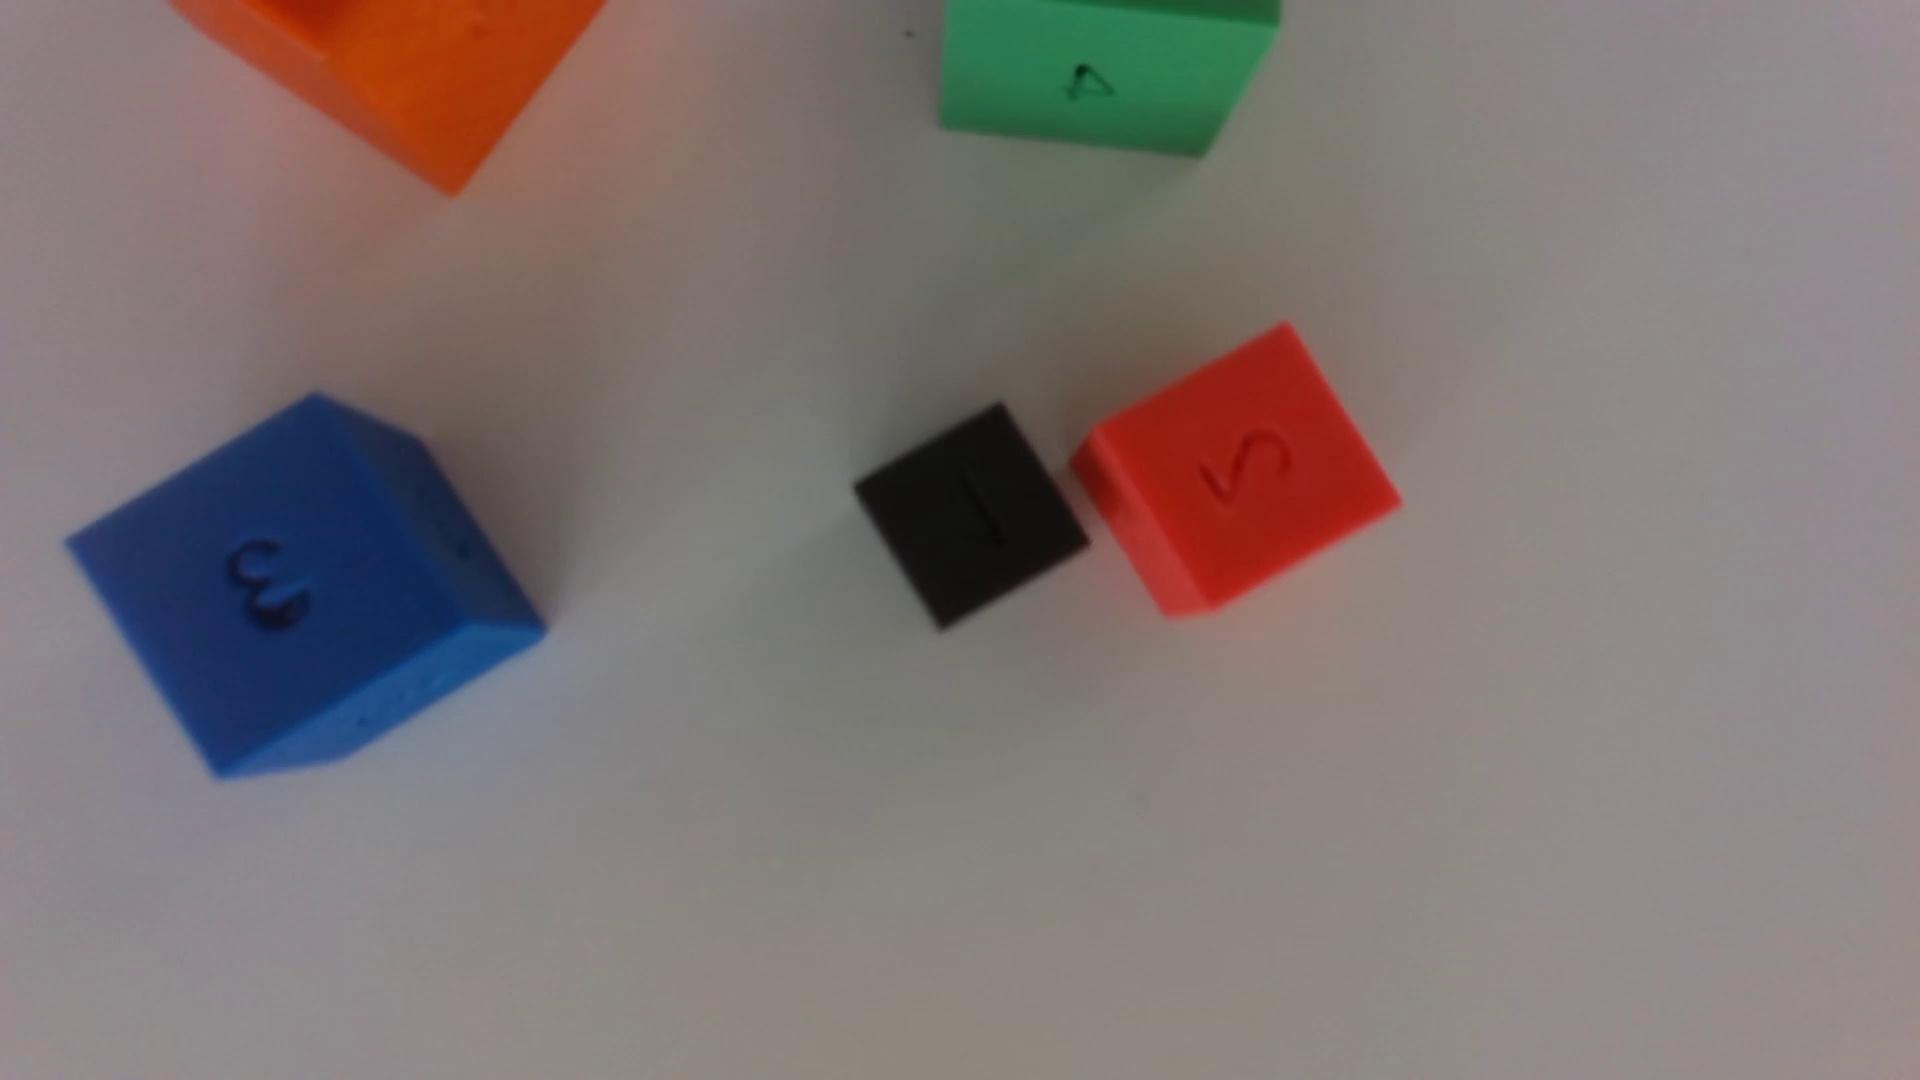black: (855, 402, 1089, 629)
blue: (67, 393, 545, 778)
green: (938, 0, 1280, 156)
orange: (171, 0, 605, 194)
red: (1071, 324, 1399, 617)
